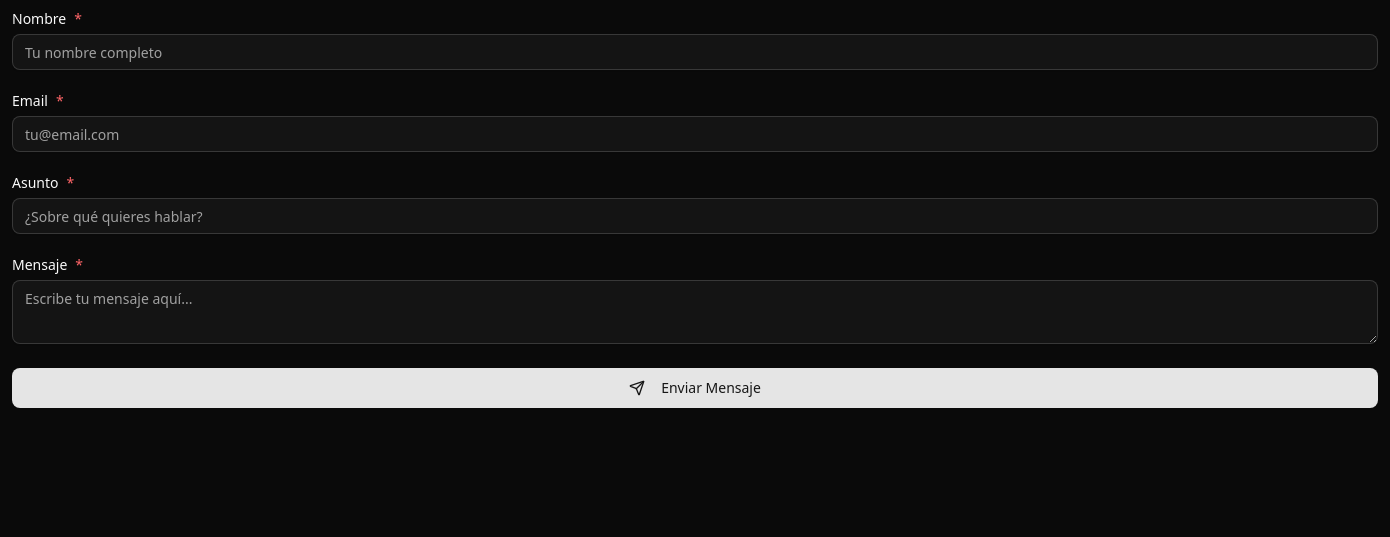
Test case: ContactForm Component › Validación de campos › debe mostrar errores cuando se envía el formulario vacío
Click the button "Enviar Mensaje" at (695, 388), box left=12, top=368, right=1378, bottom=408
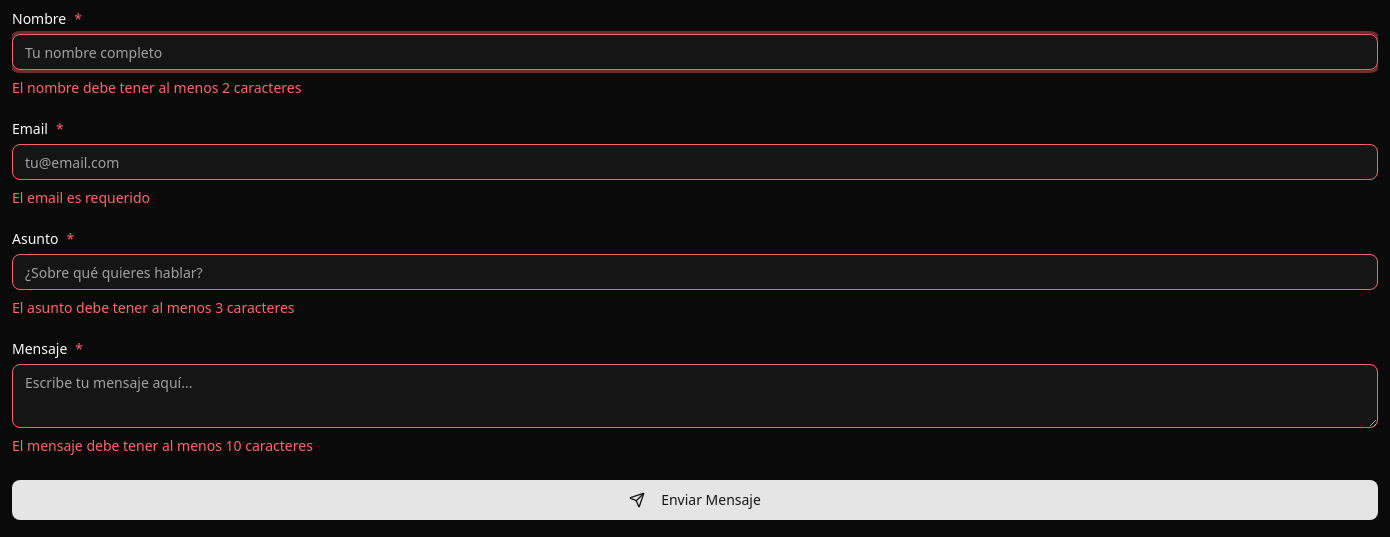
Check: the text "El nombre debe tener al menos 2 caracteres" is shown, box left=12, top=78, right=301, bottom=97
Check: the text "El email es requerido" is shown, box left=12, top=188, right=150, bottom=207
Check: the text "El asunto debe tener al menos 3 caracteres" is shown, box left=12, top=298, right=295, bottom=317
